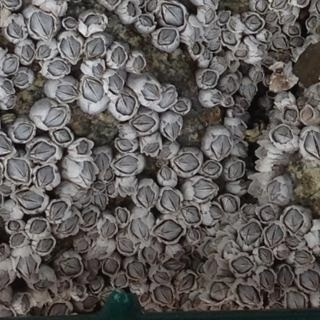Barnacle: (143, 83, 177, 111), (153, 217, 185, 241), (29, 12, 55, 39), (81, 77, 105, 102), (59, 35, 82, 60), (17, 251, 38, 278), (16, 190, 44, 210), (8, 159, 31, 183), (210, 134, 232, 159), (162, 1, 184, 26), (283, 206, 304, 232), (29, 141, 56, 161), (193, 178, 218, 199), (236, 284, 259, 306), (160, 189, 181, 213), (44, 105, 66, 127), (175, 153, 200, 172), (241, 222, 262, 244), (300, 268, 319, 292), (58, 213, 79, 234), (272, 125, 294, 145), (115, 93, 135, 115), (115, 154, 138, 173), (56, 82, 79, 101), (210, 280, 230, 301), (305, 129, 319, 159), (36, 165, 55, 187), (136, 185, 154, 208), (286, 291, 306, 311), (85, 38, 105, 58), (59, 257, 81, 275), (266, 223, 283, 246), (133, 218, 150, 241), (132, 114, 156, 130), (128, 259, 146, 280), (232, 256, 254, 273), (154, 285, 173, 304), (178, 273, 196, 293), (15, 122, 35, 140), (51, 200, 68, 221), (165, 257, 190, 271), (80, 162, 95, 185), (80, 210, 98, 229), (182, 205, 202, 222), (220, 196, 240, 213), (259, 268, 275, 289), (48, 302, 68, 318), (54, 127, 74, 143), (278, 265, 292, 287), (164, 120, 180, 139), (266, 180, 281, 200), (108, 73, 123, 93), (112, 46, 127, 66), (158, 29, 178, 44), (258, 246, 274, 264), (260, 204, 276, 222), (228, 161, 244, 179), (2, 56, 18, 74), (48, 61, 70, 74), (142, 140, 161, 155), (118, 236, 134, 253), (221, 29, 237, 46), (245, 15, 262, 31), (96, 152, 110, 171), (85, 14, 105, 27), (143, 246, 158, 263), (37, 238, 54, 253), (8, 20, 23, 37), (30, 220, 48, 234), (102, 219, 116, 237), (104, 258, 120, 273), (14, 71, 30, 86), (202, 70, 218, 85), (294, 250, 312, 263), (21, 43, 34, 61), (20, 294, 32, 313), (86, 256, 100, 272), (94, 192, 108, 208), (76, 139, 90, 154), (38, 43, 52, 58), (205, 27, 220, 41), (57, 279, 70, 295), (209, 204, 222, 220), (153, 271, 170, 283), (117, 206, 129, 223), (243, 83, 255, 100), (272, 37, 289, 49), (204, 162, 222, 173), (235, 141, 249, 155), (83, 295, 98, 308), (11, 233, 26, 246), (257, 147, 269, 163), (222, 241, 233, 258), (160, 166, 173, 180), (158, 147, 173, 159), (301, 106, 313, 121), (280, 12, 295, 24), (35, 280, 51, 291), (205, 8, 216, 24), (242, 204, 257, 215), (134, 55, 144, 71), (270, 0, 290, 8), (277, 247, 290, 259), (203, 241, 215, 254), (234, 123, 246, 136), (175, 99, 188, 111), (147, 0, 159, 13), (139, 15, 154, 25), (77, 239, 89, 251), (78, 192, 90, 204), (2, 80, 14, 92), (271, 287, 282, 300), (91, 278, 101, 292), (102, 289, 113, 301), (188, 230, 200, 241), (287, 236, 300, 246), (0, 183, 13, 193), (64, 18, 77, 28), (291, 38, 305, 47), (104, 169, 114, 181), (220, 11, 230, 23), (128, 2, 136, 17), (8, 220, 21, 229), (227, 78, 235, 92), (265, 12, 279, 20), (94, 180, 105, 190), (93, 64, 103, 75), (257, 0, 267, 11), (208, 259, 217, 271), (7, 96, 16, 108), (3, 0, 20, 6), (210, 41, 221, 50), (289, 25, 300, 34), (308, 16, 317, 27), (235, 49, 247, 57), (193, 42, 201, 54), (75, 285, 84, 295), (184, 244, 193, 254), (212, 94, 222, 103), (107, 183, 115, 194), (254, 71, 263, 80), (203, 50, 211, 59), (253, 182, 260, 192), (0, 245, 5, 257)
